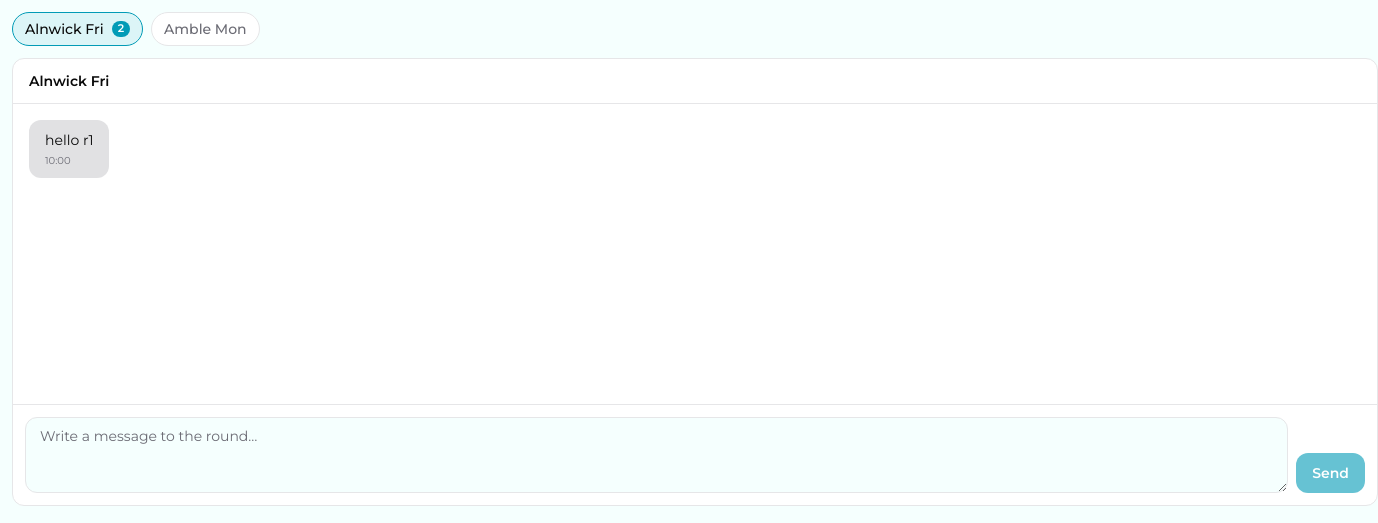
Test: TechnicianChat › shows only this technician’s rounds, with unread counts, and switches thread
Expected: the tab "Alnwick Fri 2" is shown, top-left (12, 12), bottom-right (143, 46)
Expected: the text named "2 unread" is shown, top-left (112, 21), bottom-right (130, 37)
Click the tab "Amble Mon".
click(205, 29)  # box top-left (151, 12), bottom-right (260, 46)
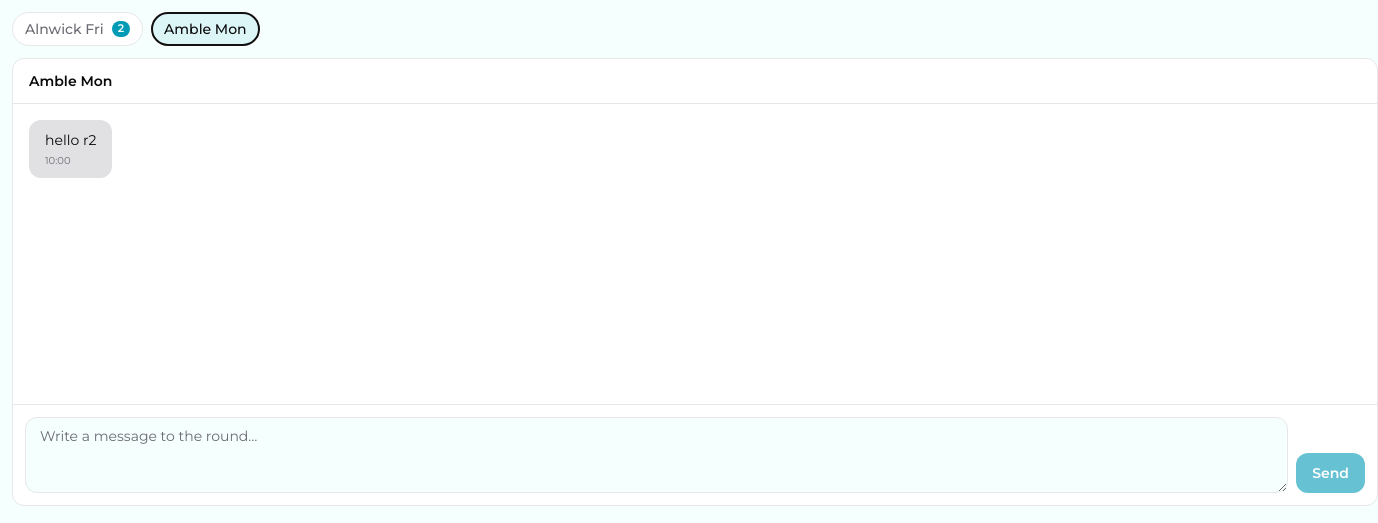
Expected: the text "hello r2" is shown, top-left (45, 130), bottom-right (96, 150)
